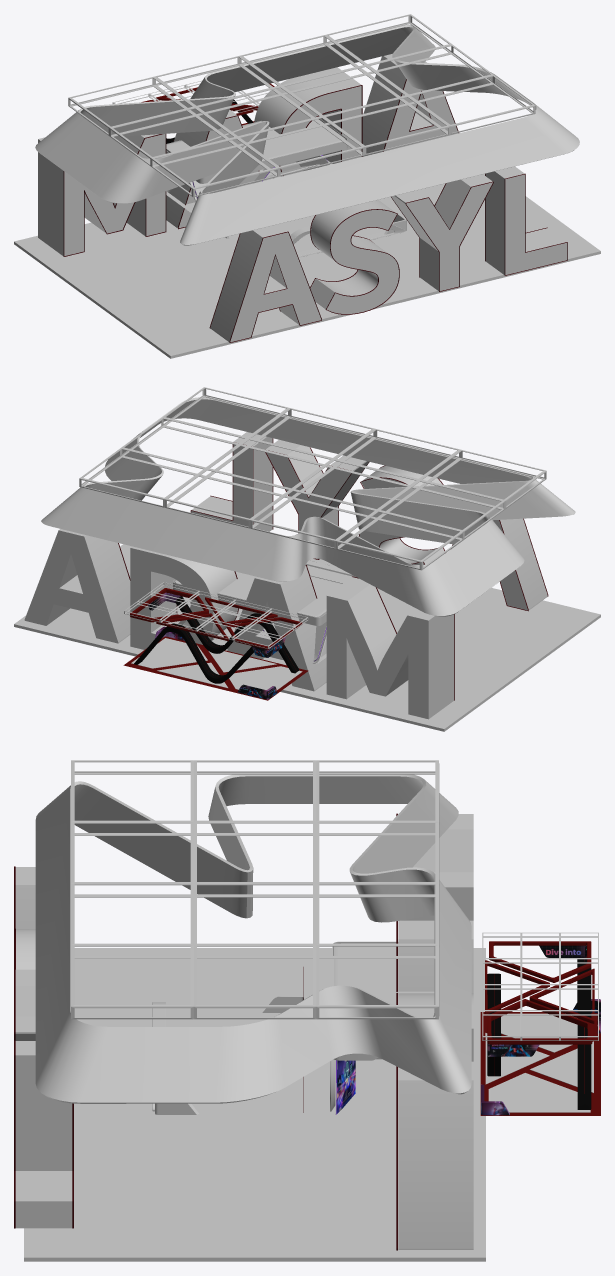
3 views of the same model, one above another, from view 1: azimuth 30°, elevation 25°; view 2: azimuth 150°, elevation 25°; view 3: azimuth 270°, elevation 25° (orthographic). The views are drawn at different scales.
Visible parts, largest first — view 1: Куб.054_Куб.117, Куб.053_Куб.114, Text, Text.002_Text.005, Куб.055_Куб.118, Text.001_Text.003, Куб.050_Куб.064, Text.005, Куб.003, Cube.012_Cube.010, Text.003_Text.004, Куб.060_Куб.002; view 2: Куб.054_Куб.117, Text.002_Text.005, Куб.053_Куб.114, Куб.055_Куб.118, Text, Cube.001_Cube.002, Куб.060_Куб.002, Куб.059_Куб.001, Куб.050_Куб.064, Cube.009_Cube.014, Cube_Cube.013, Text.003_Text.004 (+5 smaller); view 3: Куб.053_Куб.114, Куб.054_Куб.117, Text.002_Text.005, Куб.055_Куб.118, Text, Cube.001_Cube.002, Куб.050_Куб.064, Куб.060_Куб.002, Куб.059_Куб.001, Куб, Cube.009_Cube.014, Cube.005_Cube.006 (+6 smaller).
Part boxes in pixels (x1=…): Куб.054_Куб.117: x1=35, y1=25, x2=579, y2=245; Куб.053_Куб.114: x1=14, y1=174, x2=600, y2=358; Text: x1=210, y1=166, x2=566, y2=342; Text.002_Text.005: x1=38, y1=53, x2=458, y2=256; Куб.055_Куб.118: x1=68, y1=14, x2=535, y2=197; Text.001_Text.003: x1=229, y1=173, x2=567, y2=342; Куб.050_Куб.064: x1=166, y1=119, x2=345, y2=161; Text.005: x1=63, y1=79, x2=458, y2=256; Куб.003: x1=166, y1=118, x2=347, y2=183; Cube.012_Cube.010: x1=290, y1=224, x2=404, y2=257; Text.003_Text.004: x1=209, y1=173, x2=547, y2=328; Куб.060_Куб.002: x1=112, y1=80, x2=267, y2=113; Куб.054_Куб.117: x1=41, y1=397, x2=575, y2=616; Text.002_Text.005: x1=24, y1=529, x2=454, y2=719; Куб.053_Куб.114: x1=14, y1=544, x2=600, y2=731; Куб.055_Куб.118: x1=79, y1=387, x2=546, y2=570; Text: x1=191, y1=432, x2=547, y2=610; Cube.001_Cube.002: x1=131, y1=638, x2=302, y2=689; Куб.060_Куб.002: x1=124, y1=582, x2=308, y2=648; Куб.059_Куб.001: x1=123, y1=636, x2=308, y2=700; Куб.050_Куб.064: x1=175, y1=571, x2=341, y2=617; Cube.009_Cube.014: x1=134, y1=623, x2=253, y2=683; Cube_Cube.013: x1=175, y1=596, x2=299, y2=673; Text.003_Text.004: x1=190, y1=444, x2=528, y2=611; Куб.053_Куб.114: x1=24, y1=948, x2=485, y2=1261; Куб.054_Куб.117: x1=35, y1=774, x2=471, y2=1103; Text.002_Text.005: x1=398, y1=814, x2=473, y2=1249; Куб.055_Куб.118: x1=71, y1=760, x2=439, y2=1019; Text: x1=15, y1=867, x2=72, y2=1228; Cube.001_Cube.002: x1=485, y1=1013, x2=593, y2=1112; Куб.050_Куб.064: x1=334, y1=943, x2=434, y2=1059; Куб.060_Куб.002: x1=482, y1=932, x2=598, y2=1040; Куб.059_Куб.001: x1=480, y1=1012, x2=600, y2=1115; Куб: x1=334, y1=1059, x2=398, y2=1115; Cube.009_Cube.014: x1=577, y1=957, x2=591, y2=1109; Cube.005_Cube.006: x1=487, y1=999, x2=592, y2=1044.
Bounding box in the file's own units: 362 × 120 × 290.
